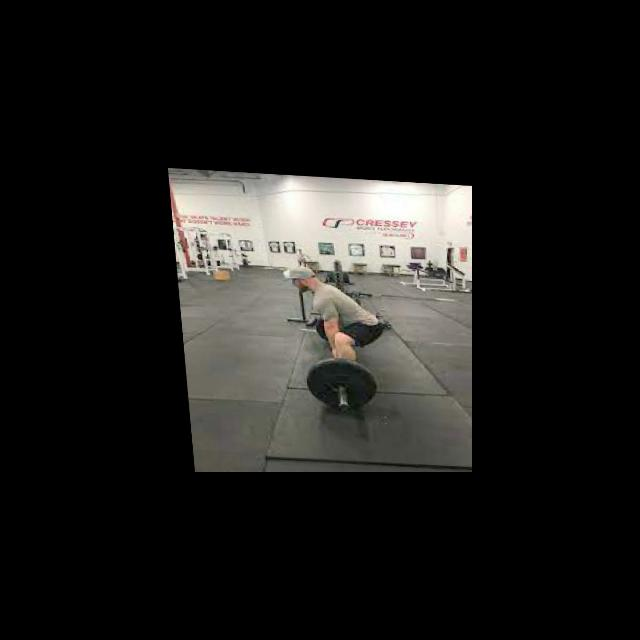barbell: (298, 354, 378, 410)
